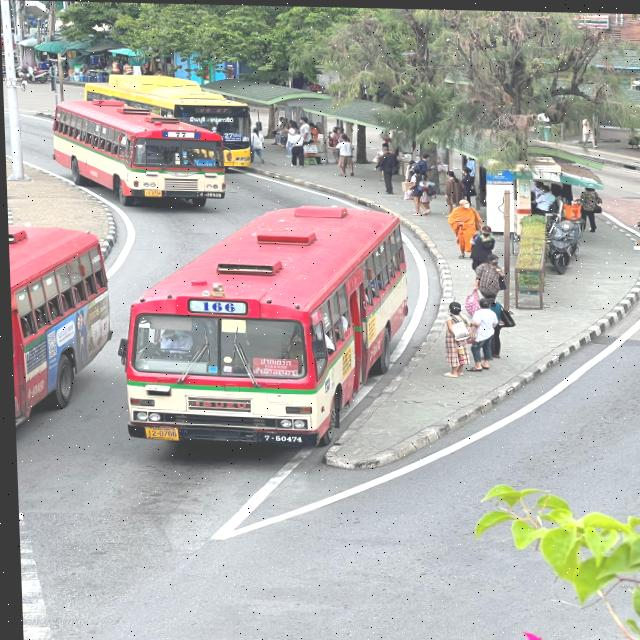BMTA-bus: (118, 205, 406, 446), (7, 226, 107, 432), (51, 101, 226, 208)
Bus Line Number: (186, 298, 245, 314), (160, 129, 199, 139)
Bus Side Number: (256, 432, 303, 443), (197, 191, 221, 197)
Destination Sign: (251, 356, 296, 376), (193, 158, 215, 167)
